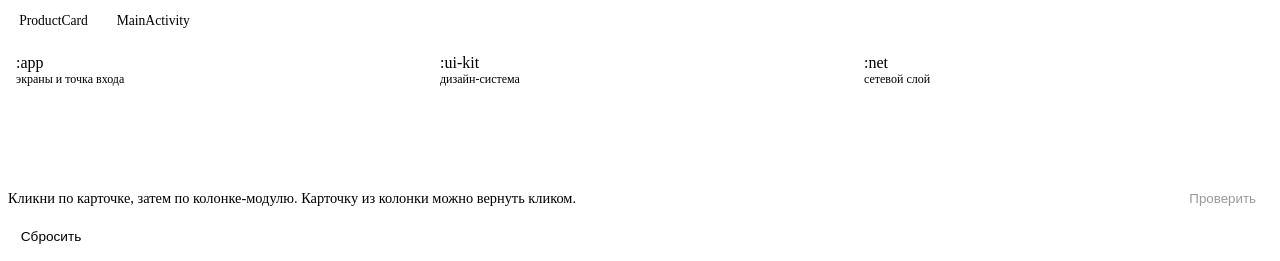
Scenario: perfect sorting finishes, marks trainer done and awards xp
Click the button "ProductCard" at (54, 21), box [8, 8, 99, 34]
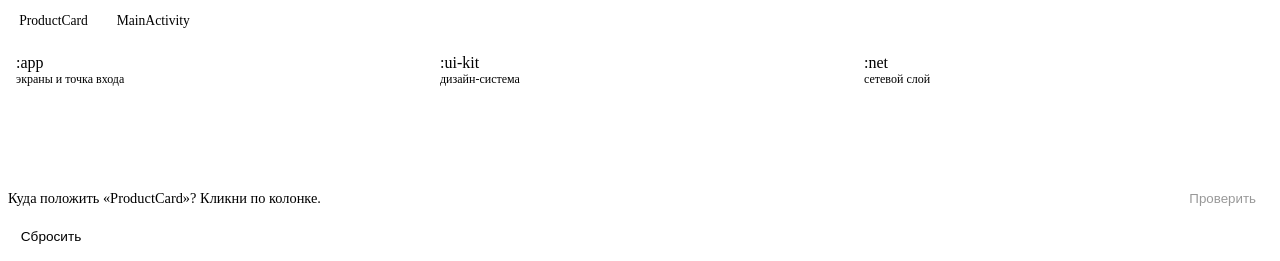
Click the button ":ui-kit дизайн-система" at (480, 70), box [440, 54, 520, 86]
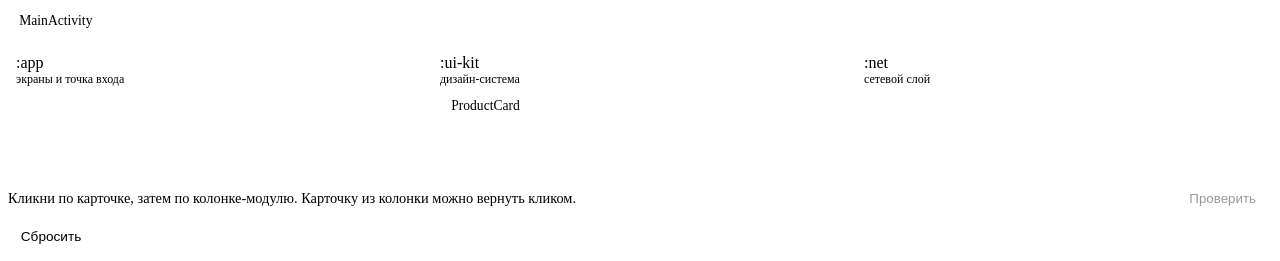
Click the button "MainActivity" at (56, 21), box [8, 8, 104, 34]
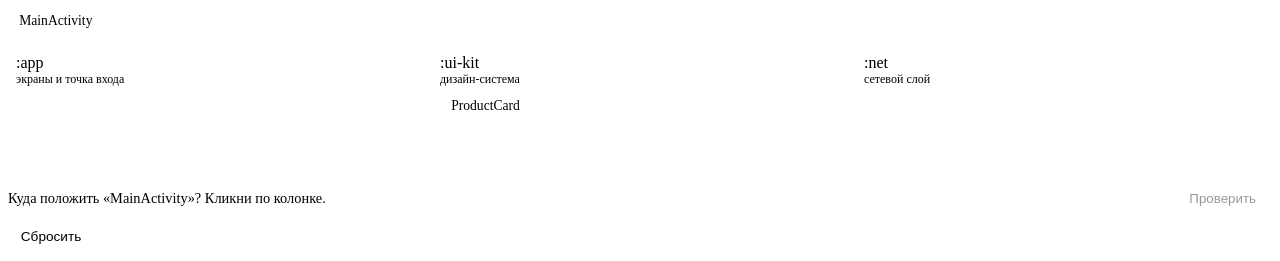
Click the button ":app экраны и точка входа" at (70, 70), box [16, 54, 124, 86]
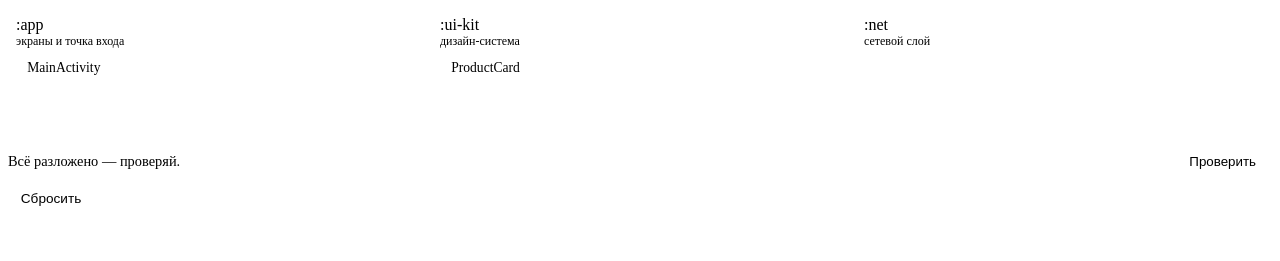
Click the button "Проверить" at (1223, 161), box [1173, 148, 1272, 174]
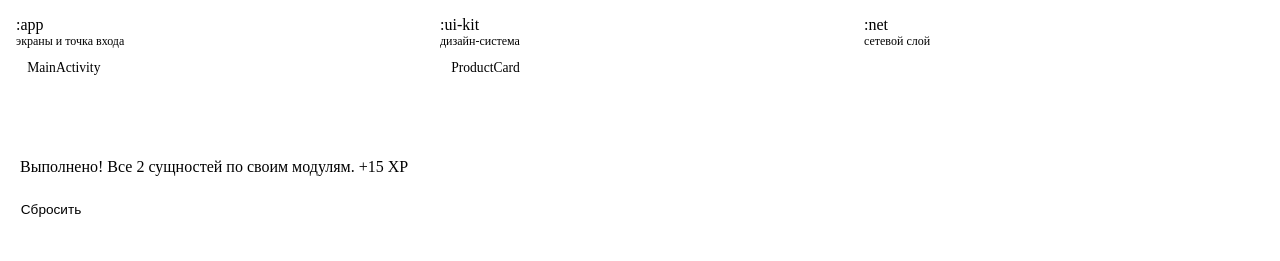
Expected: the text "Выполнено! Все 2 сущностей по своим модулям. +15 XP" is shown, [20, 158, 408, 175]
